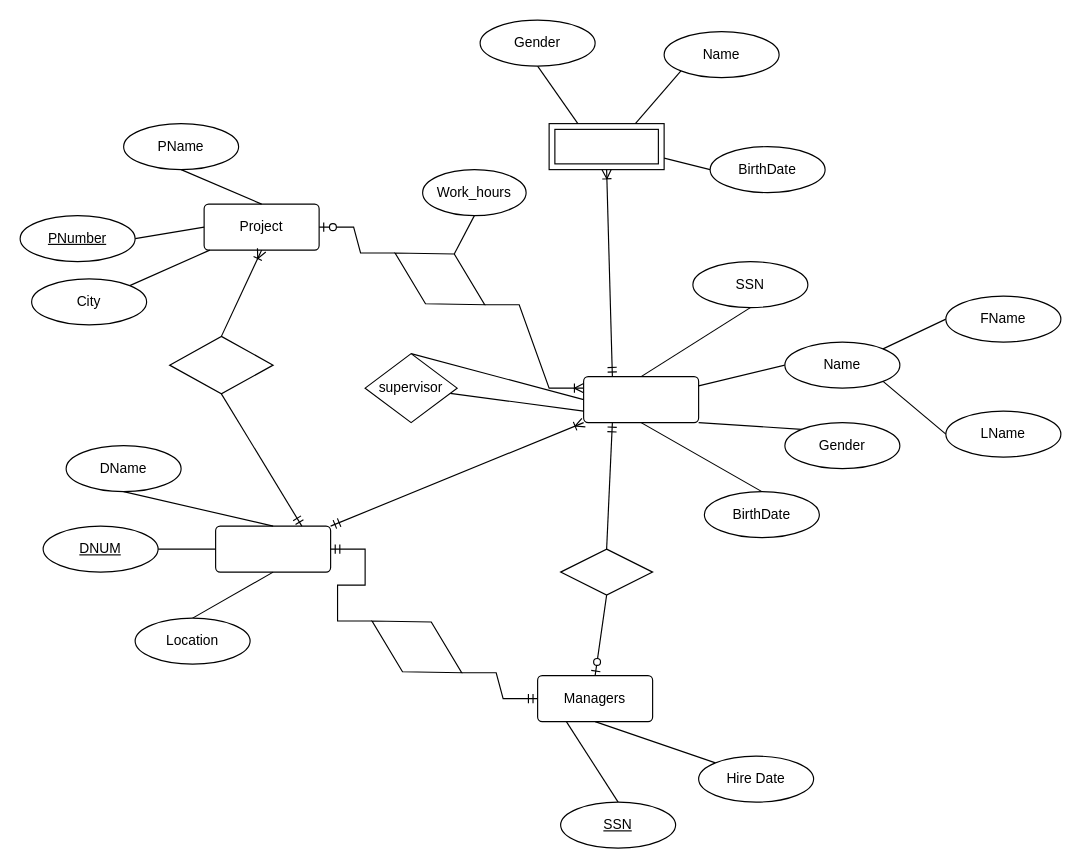
Some shapes in this 1081 by 868 pixel diagram are drawn without their labels. Each missing label, with the centre of its shape:
"Department" belongs at (x=272, y=548).
"Dependent" belongs at (x=606, y=146).
"Employee" belongs at (x=640, y=399).
"Have" belongs at (x=220, y=364).
"Manage" belongs at (x=416, y=646).
"Manger" belongs at (x=606, y=571).
"Work" belongs at (x=439, y=278).
